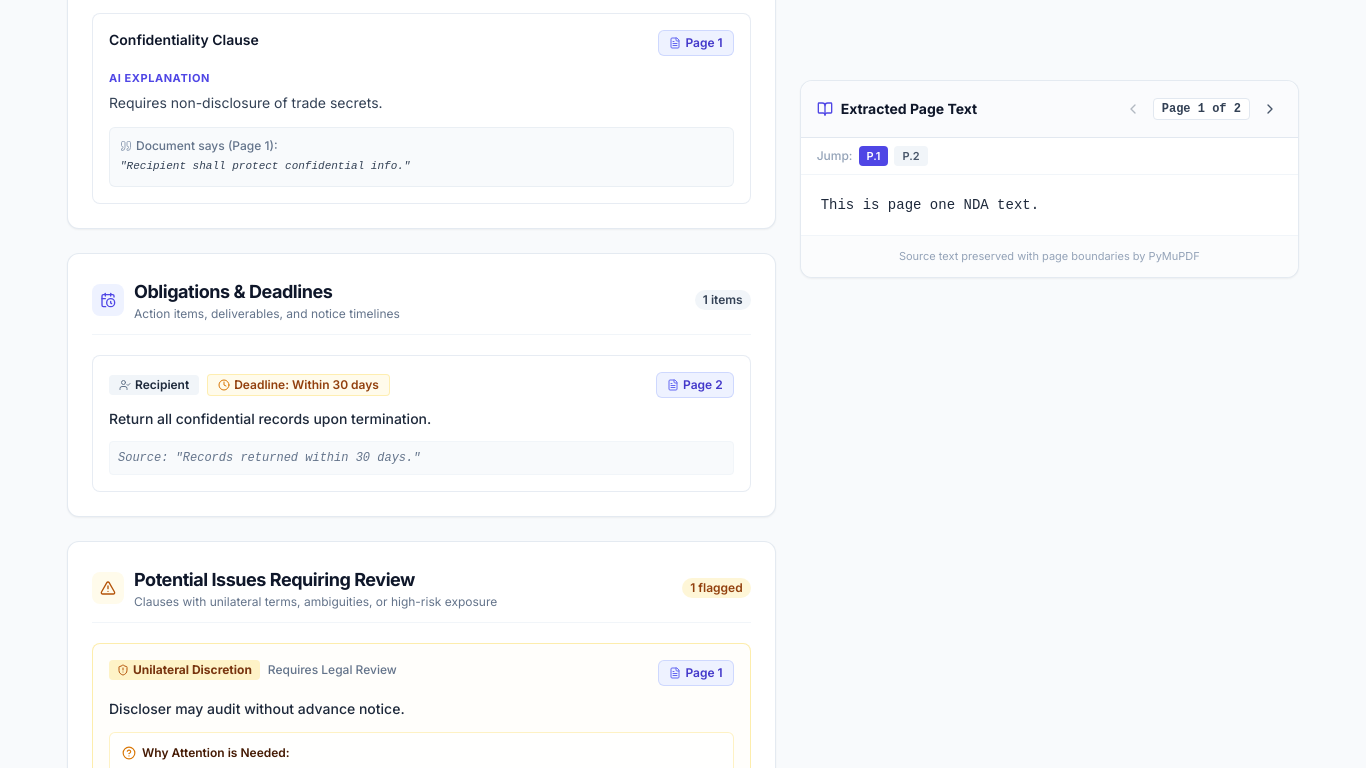
Test: DocumentDetailPage Component › updates page reader when a source page badge is clicked
(page scrolled)
Expected: the text "This is page one NDA text." is shown, [821,197,1039,213]
What coordinates should you click on to do the following:
click the button with aria-label "jump to source page 2"
I would click on:
 (695, 385)
Its box is [656,372,734,398].
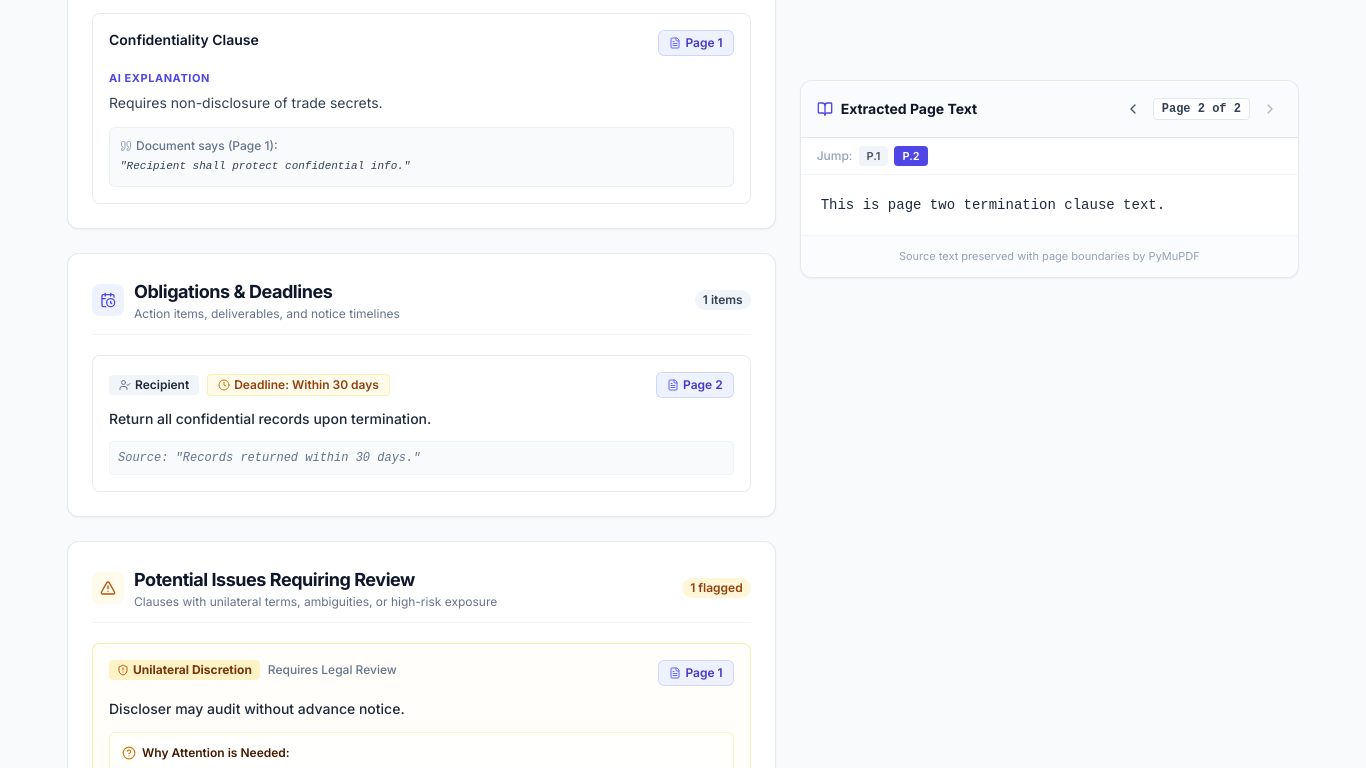
Now the text "This is page two termination clause text." is shown, box [821,197,1165,213]
Now the text "Page 2 of 2" is shown, box [1153,98,1250,120]
